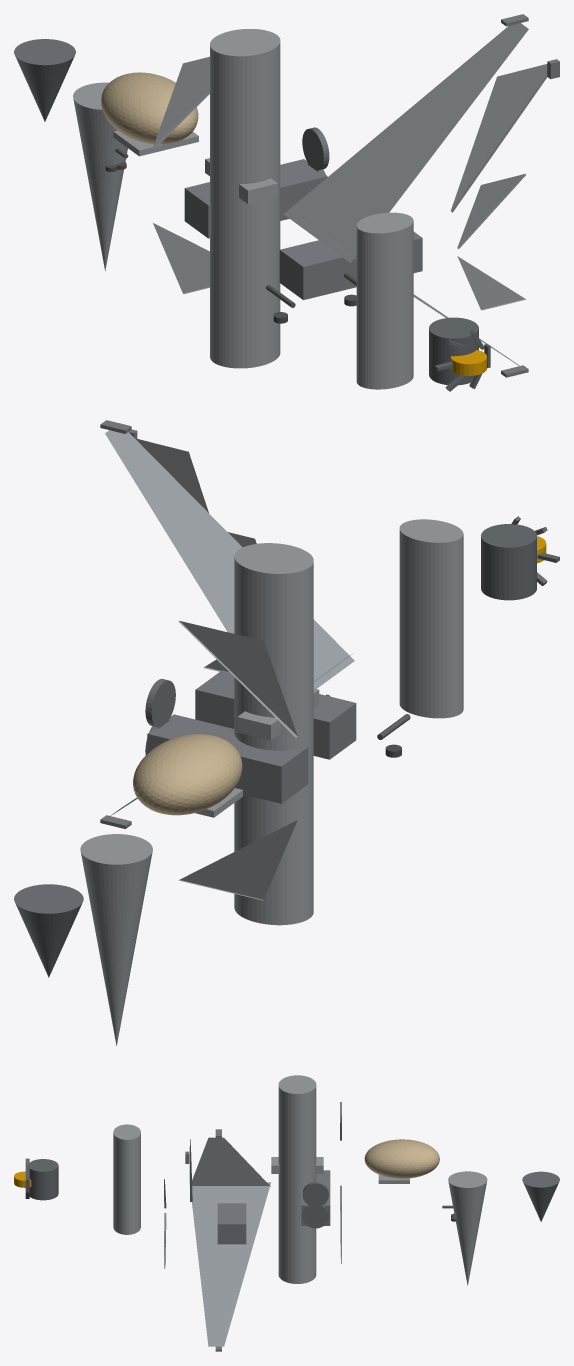
File: gripen.glb
The picture shows the model from 3 angles, top to bottom: view 1: azimuth 30°, elevation 25°; view 2: azimuth 150°, elevation 25°; view 3: azimuth 270°, elevation 25°; orthographic projection. The views are drawn at different scales.
Visible parts, largest first — view 1: world; view 2: world; view 3: world.
Part boxes in pixels (box(x1,y1,x2,y2)): world: box(14, 14, 559, 391); world: box(14, 420, 559, 1045); world: box(14, 1075, 559, 1351).
Bounding box in the file's own units: 7.5 × 9.08 × 20.84.
